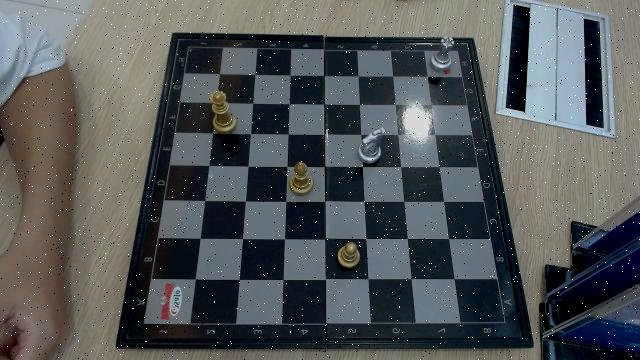black_bishop: (289, 161, 314, 194)
black_pawn: (336, 241, 361, 268)
black_queen: (209, 90, 237, 135)
white_knight: (359, 127, 386, 164)
white_rook: (432, 37, 454, 71)
